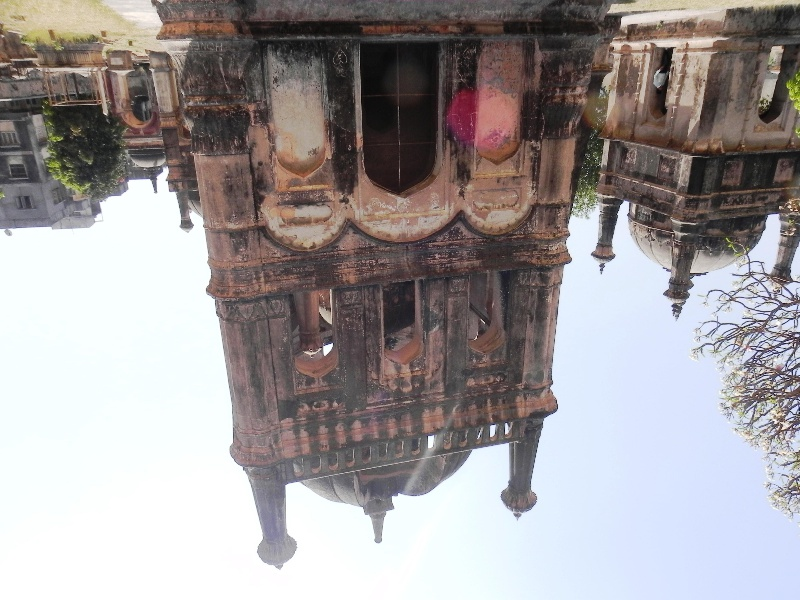Spalling: (304, 143, 324, 160)
